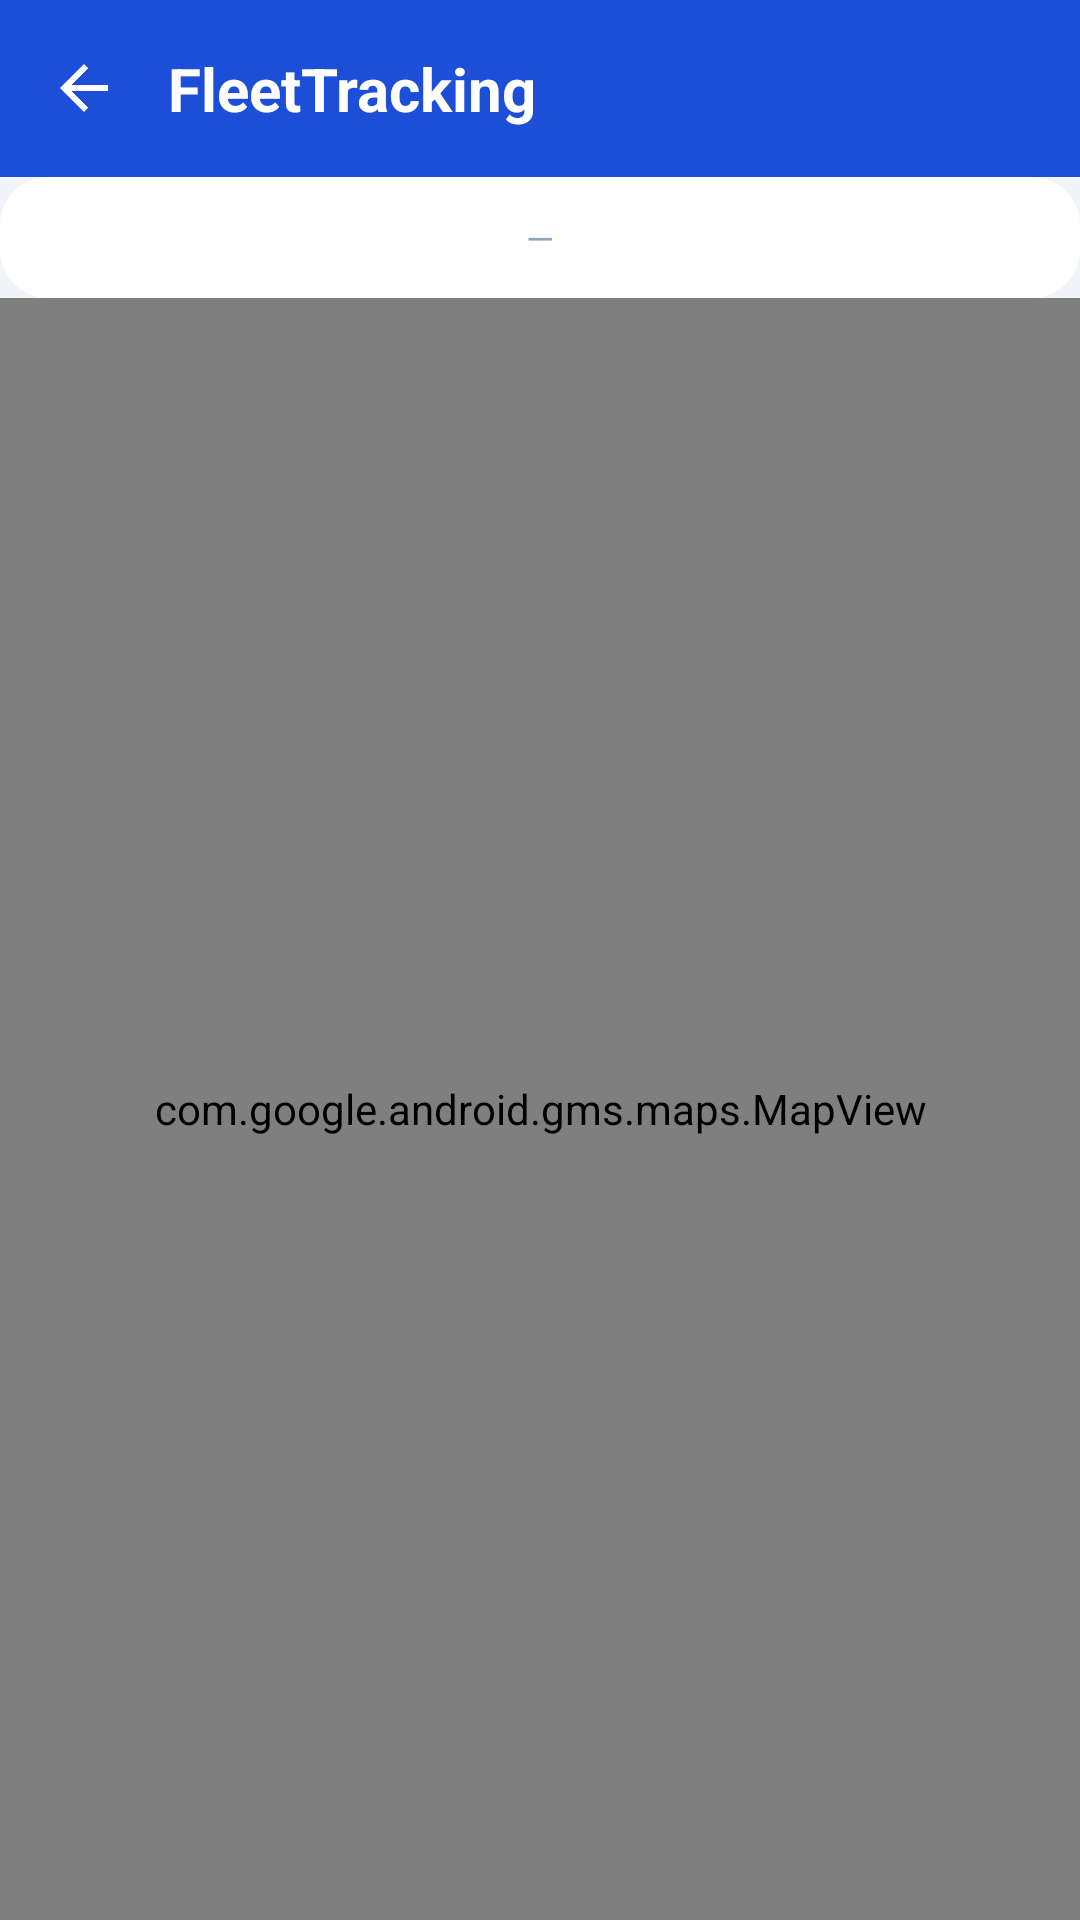

Named icons in this screenshot (1080×1920) and their bounding boxes, (x1, y1, x2, y2):
Retour: (60, 64, 108, 112)
